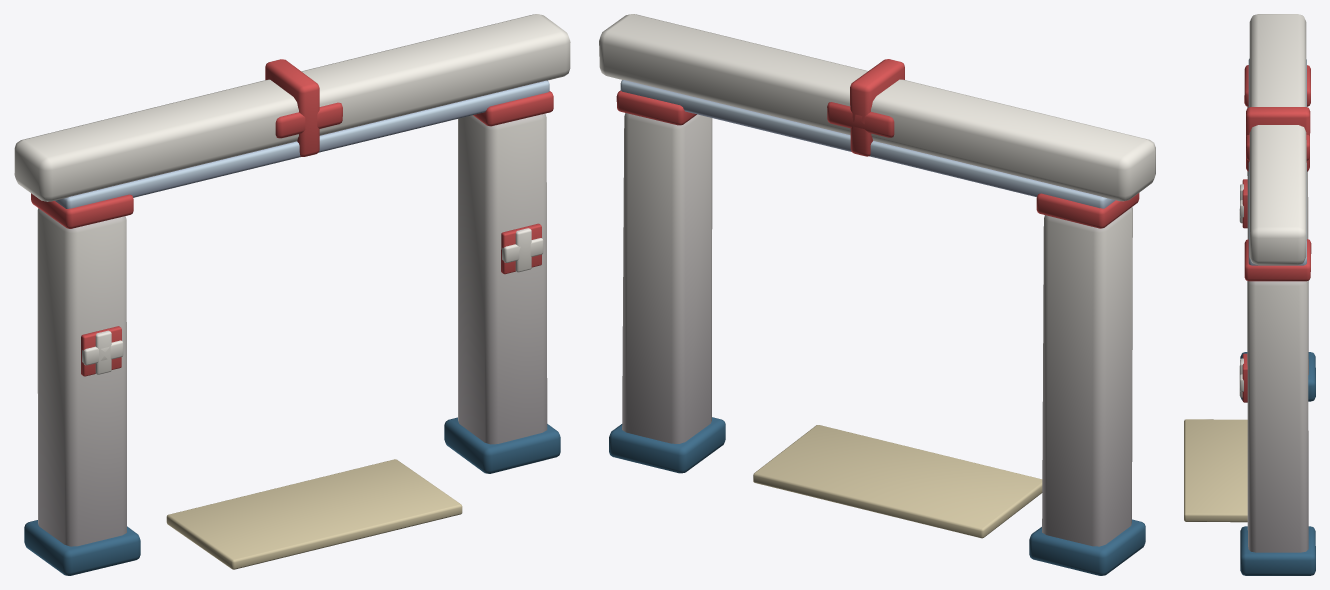
3 views of the same model, side by side, from view 1: azimuth 30°, elevation 25°; view 2: azimuth 150°, elevation 25°; view 3: azimuth 270°, elevation 25° (orthographic). The views are drawn at different scales.
Parts seen in each view (by area): view 1: gate_3aaea9c0; view 2: gate_3aaea9c0; view 3: gate_3aaea9c0.
Part boxes in pixels (bbox=[...]): gate_3aaea9c0: bbox=[14, 14, 570, 575]; gate_3aaea9c0: bbox=[599, 14, 1155, 575]; gate_3aaea9c0: bbox=[1184, 14, 1315, 575].
Size of the model in its own units: 5.53 by 4.29 by 1.4.
